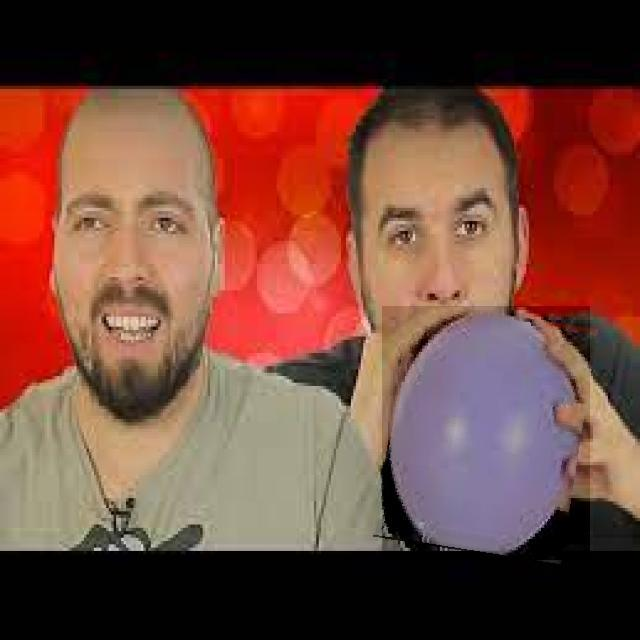balloon: (382, 306, 590, 560)
